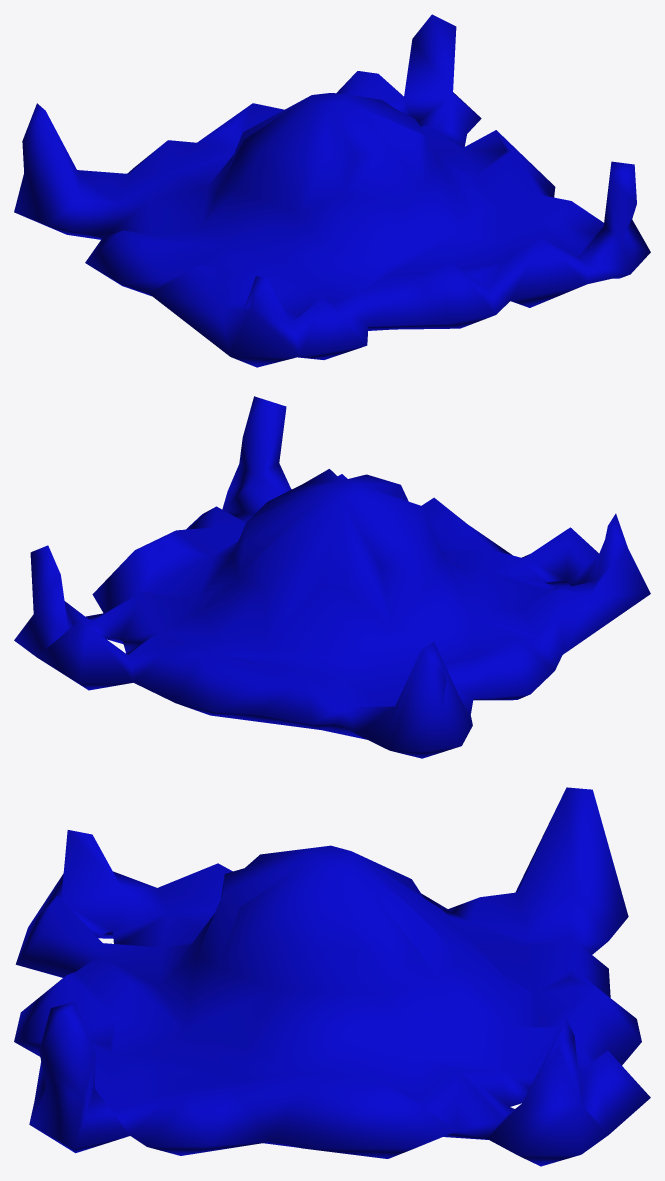
The model's file is smallSquashEye.obj.
3 renders of one model, top to bottom at view 1: azimuth 30°, elevation 25°; view 2: azimuth 150°, elevation 25°; view 3: azimuth 270°, elevation 25°, orthographic. The views are drawn at different scales.
Parts seen in each view (by area): view 1: Fluid_Domain.003_Cube.007; view 2: Fluid_Domain.003_Cube.007; view 3: Fluid_Domain.003_Cube.007.
Part boxes in pixels (x1,y1,x2,y2): Fluid_Domain.003_Cube.007: [14, 14, 650, 367]; Fluid_Domain.003_Cube.007: [14, 396, 650, 758]; Fluid_Domain.003_Cube.007: [14, 787, 650, 1166].
Bounding box in the file's own units: 4.74 × 1.57 × 4.74.
